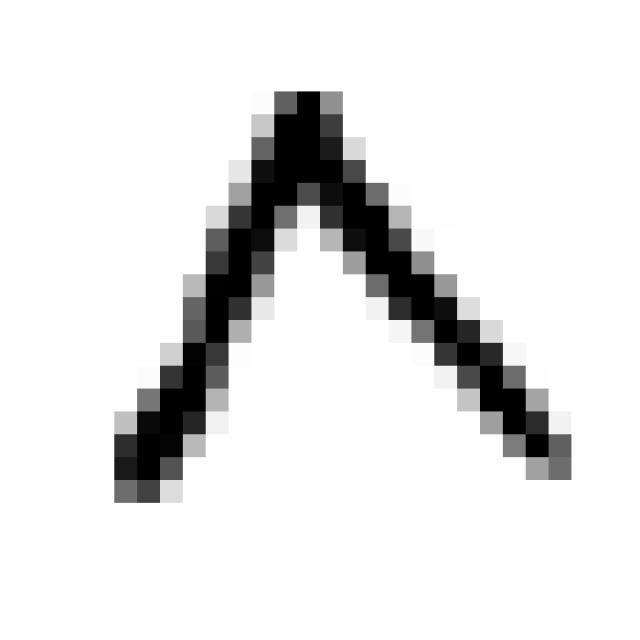8 -eight-: (91, 68, 589, 510)
